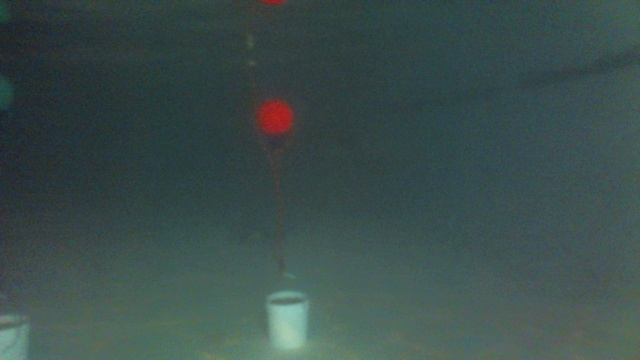buoy_red: (255, 97, 294, 145)
